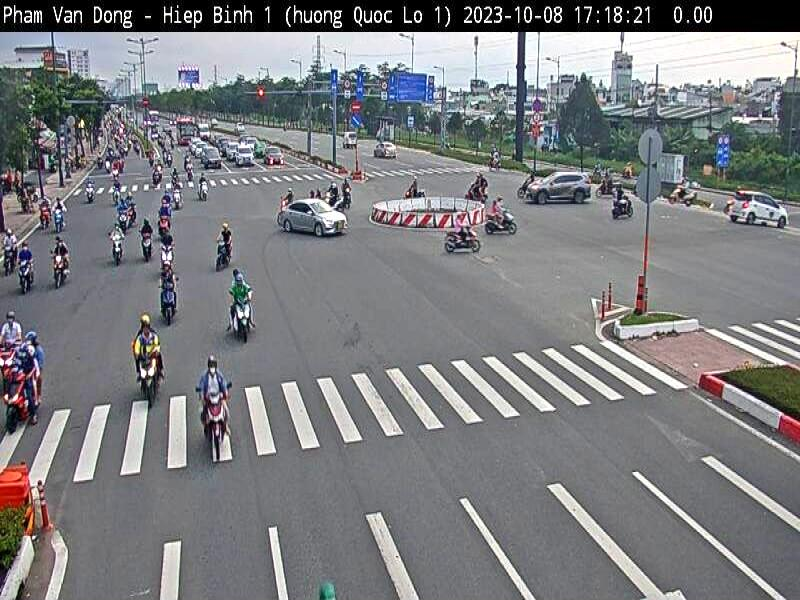car: (728, 188, 790, 230), (278, 199, 347, 236), (526, 172, 591, 205), (264, 146, 284, 165)
motorcycle: (4, 371, 43, 434), (198, 391, 231, 463), (228, 289, 255, 343), (136, 352, 161, 408), (159, 278, 179, 326), (50, 250, 70, 288), (0, 338, 21, 370), (18, 258, 34, 293), (111, 233, 125, 267), (215, 238, 228, 273), (140, 231, 154, 262)
